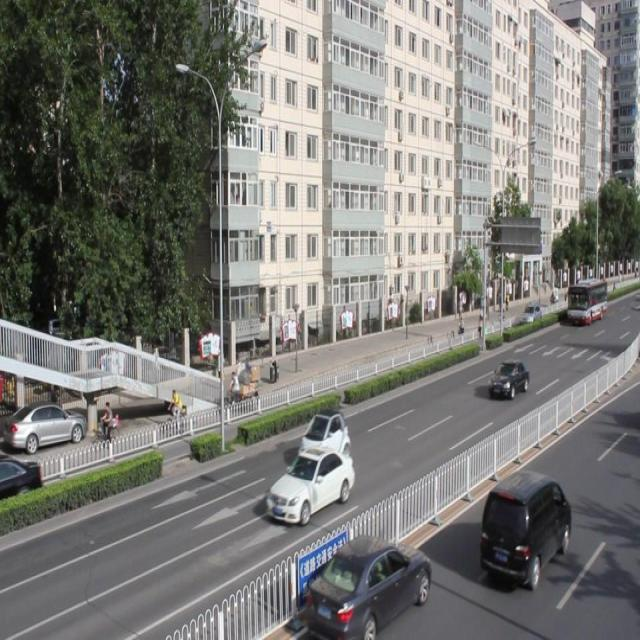BigCar: (565, 276, 611, 327)
car: (311, 527, 432, 640), (478, 472, 570, 589), (268, 454, 358, 524), (5, 401, 87, 455), (303, 408, 347, 452), (488, 354, 524, 402)
